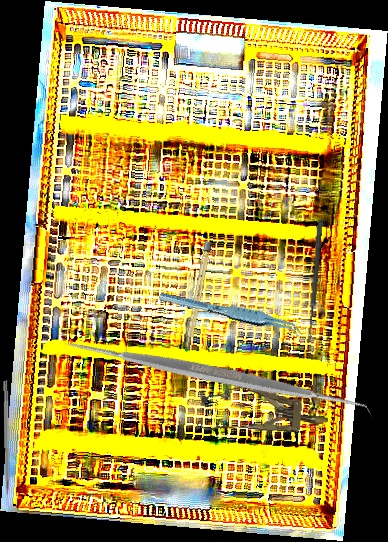Hook Surgical: (2, 380, 11, 516)
Scalpel Handle: (184, 240, 212, 351)
Spatula Surgical: (61, 218, 376, 533)
Speculum: (196, 381, 331, 446)
Surgical Spoon: (306, 221, 323, 343)
Tissue Forceps: (158, 276, 305, 351)
